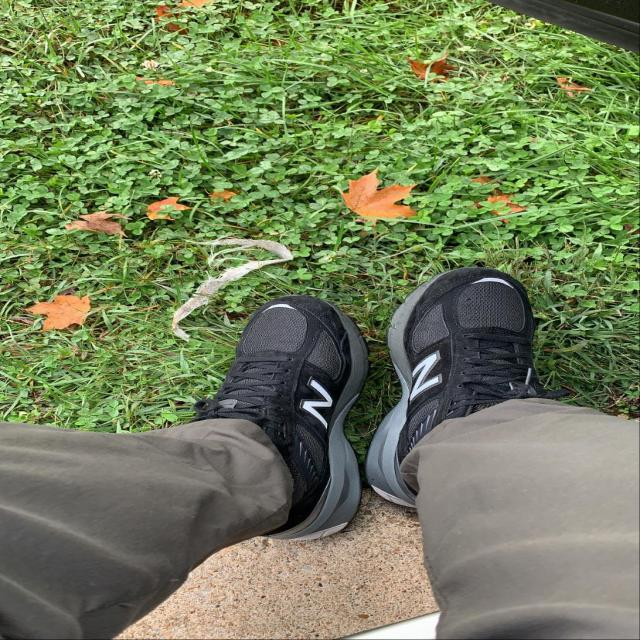shoe: (372, 236, 576, 527), (153, 278, 370, 546)
